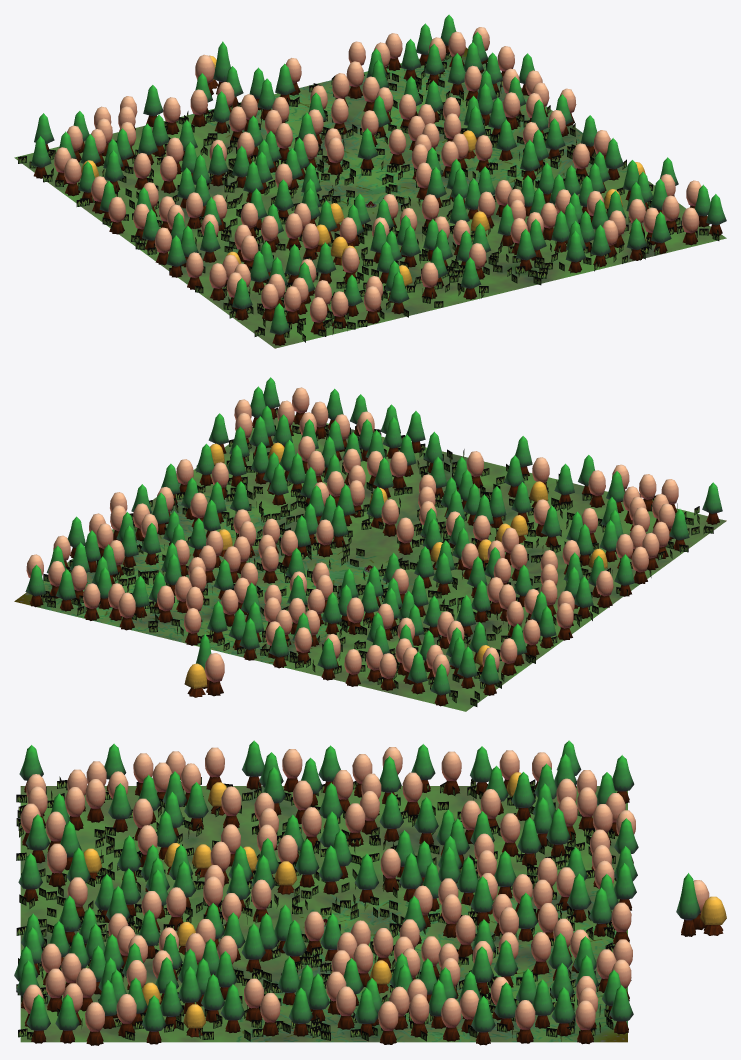
File: camp.fbx
3 renders of one model, top to bottom at view 1: azimuth 30°, elevation 25°; view 2: azimuth 150°, elevation 25°; view 3: azimuth 270°, elevation 25°, orthographic. The views are drawn at different scales.
Visible parts, largest first — view 1: Terrain; view 2: Terrain, tree_maple, tree_honey; view 3: Terrain, tree_pine, tree_honey.
Boxes of the visible parts, x1,y1,x2,y2 form: Terrain: (14, 14, 726, 348); Terrain: (14, 377, 726, 711); tree_maple: (205, 653, 224, 696); tree_honey: (184, 663, 207, 697); Terrain: (14, 740, 638, 1045); tree_pine: (676, 873, 700, 936); tree_honey: (700, 896, 726, 935).
Size of the model in its own units: 4139 by 447 by 4697.
10 materials, 8 textured.
